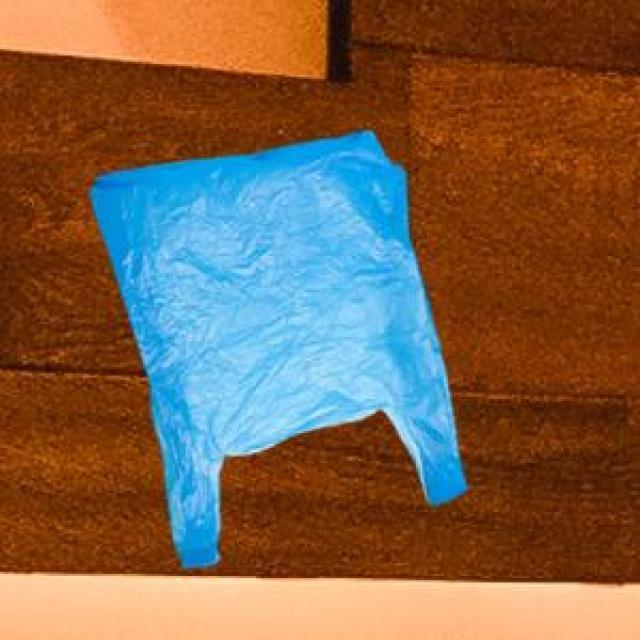Bolsa-de-plastico: (125, 130, 445, 553)
